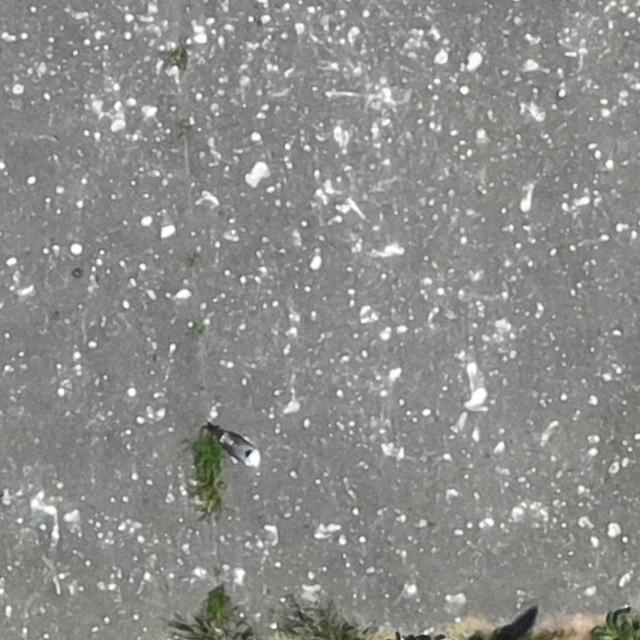umineko: (225, 438, 257, 464)
